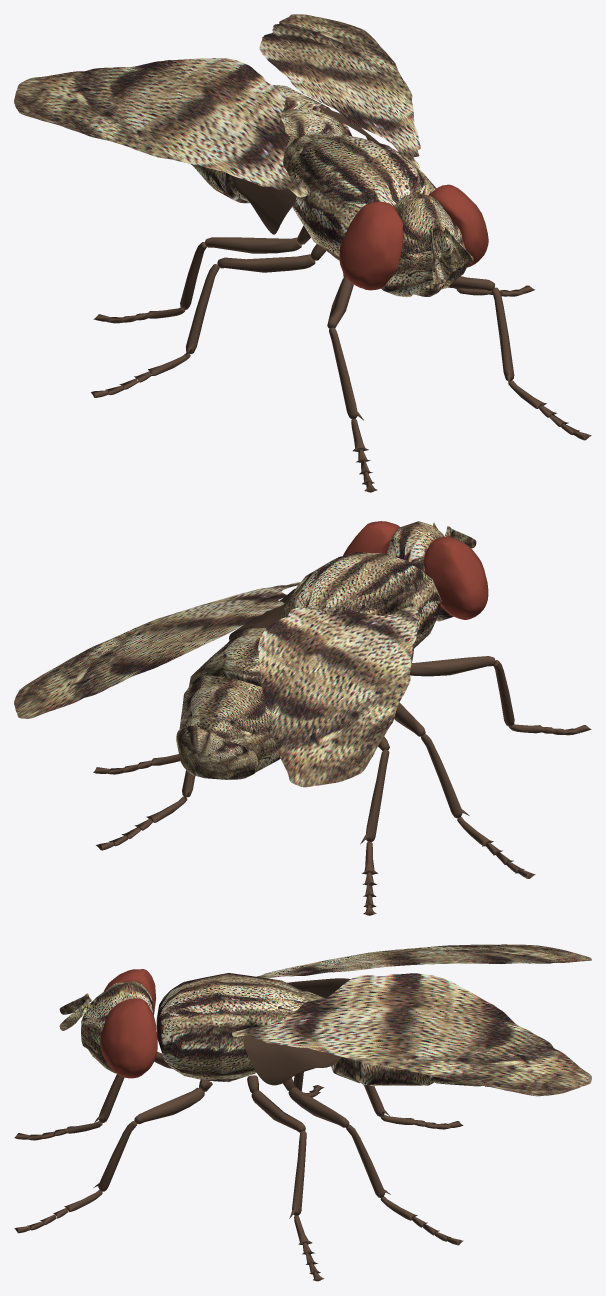
Rendered from fly (1).fbx.
The picture shows the model from 3 angles, top to bottom: view 1: azimuth 30°, elevation 25°; view 2: azimuth 150°, elevation 25°; view 3: azimuth 270°, elevation 25°; orthographic projection. The views are drawn at different scales.
Visible parts, largest first — view 1: 3DSMeshMatrix.008, 3DSMeshMatrix.007, 3DSMeshMatrix, 3DSMeshMatrix.004, 3DSMeshMatrix.003, 3DSMeshMatrix.001, 3DSMeshMatrix.002, 3DSMeshMatrix.005, 3DSMeshMatrix.055, 3DSMeshMatrix.015, 3DSMeshMatrix.014, 3DSMeshMatrix.030 (+3 smaller); view 2: 3DSMeshMatrix.008, 3DSMeshMatrix.007, 3DSMeshMatrix.001, 3DSMeshMatrix, 3DSMeshMatrix.003, 3DSMeshMatrix.004, 3DSMeshMatrix.031, 3DSMeshMatrix.002, 3DSMeshMatrix.054, 3DSMeshMatrix.014, 3DSMeshMatrix.030, 3DSMeshMatrix.006; view 3: 3DSMeshMatrix.007, 3DSMeshMatrix, 3DSMeshMatrix.008, 3DSMeshMatrix.002, 3DSMeshMatrix.004, 3DSMeshMatrix.006, 3DSMeshMatrix.001, 3DSMeshMatrix.023, 3DSMeshMatrix.047, 3DSMeshMatrix.038, 3DSMeshMatrix.039, 3DSMeshMatrix.046 (+4 smaller).
Part boxes in pixels (x1=…): 3DSMeshMatrix.008: x1=14, y1=58, x2=308, y2=197; 3DSMeshMatrix.007: x1=259, y1=14, x2=420, y2=168; 3DSMeshMatrix: x1=283, y1=133, x2=436, y2=260; 3DSMeshMatrix.004: x1=381, y1=193, x2=473, y2=297; 3DSMeshMatrix.003: x1=339, y1=201, x2=403, y2=290; 3DSMeshMatrix.001: x1=191, y1=85, x2=351, y2=203; 3DSMeshMatrix.002: x1=429, y1=184, x2=488, y2=267; 3DSMeshMatrix.005: x1=231, y1=119, x2=296, y2=234; 3DSMeshMatrix.055: x1=205, y1=237, x2=301, y2=253; 3DSMeshMatrix.015: x1=217, y1=254, x2=315, y2=272; 3DSMeshMatrix.014: x1=185, y1=264, x2=219, y2=357; 3DSMeshMatrix.030: x1=329, y1=327, x2=363, y2=420; 3DSMeshMatrix.008: x1=258, y1=607, x2=418, y2=787; 3DSMeshMatrix.007: x1=14, y1=582, x2=300, y2=718; 3DSMeshMatrix.001: x1=176, y1=628, x2=280, y2=779; 3DSMeshMatrix: x1=280, y1=552, x2=441, y2=648; 3DSMeshMatrix.003: x1=423, y1=536, x2=488, y2=619; 3DSMeshMatrix.004: x1=386, y1=521, x2=476, y2=621; 3DSMeshMatrix.031: x1=410, y1=656, x2=495, y2=676; 3DSMeshMatrix.002: x1=343, y1=521, x2=399, y2=555; 3DSMeshMatrix.054: x1=360, y1=749, x2=389, y2=844; 3DSMeshMatrix.014: x1=421, y1=734, x2=469, y2=818; 3DSMeshMatrix.030: x1=493, y1=660, x2=514, y2=726; 3DSMeshMatrix.006: x1=229, y1=588, x2=295, y2=640; 3DSMeshMatrix.007: x1=232, y1=973, x2=591, y2=1096; 3DSMeshMatrix: x1=156, y1=973, x2=324, y2=1082; 3DSMeshMatrix.008: x1=257, y1=944, x2=591, y2=978; 3DSMeshMatrix.002: x1=100, y1=998, x2=157, y2=1078; 3DSMeshMatrix.004: x1=59, y1=981, x2=153, y2=1073; 3DSMeshMatrix.006: x1=243, y1=1035, x2=341, y2=1085; 3DSMeshMatrix.001: x1=331, y1=1057, x2=488, y2=1086; 3DSMeshMatrix.023: x1=134, y1=1087, x2=204, y2=1124; 3DSMeshMatrix.047: x1=288, y1=1087, x2=349, y2=1127; 3DSMeshMatrix.038: x1=289, y1=1131, x2=306, y2=1218; 3DSMeshMatrix.039: x1=251, y1=1090, x2=305, y2=1132; 3DSMeshMatrix.046: x1=346, y1=1124, x2=390, y2=1197.
Size of the model in its own units: 401745 by 209710 by 505558.
Materials: 7 (6 with a texture image).
